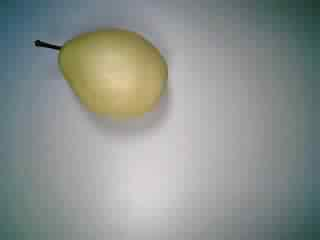pear: (30, 22, 173, 122)
